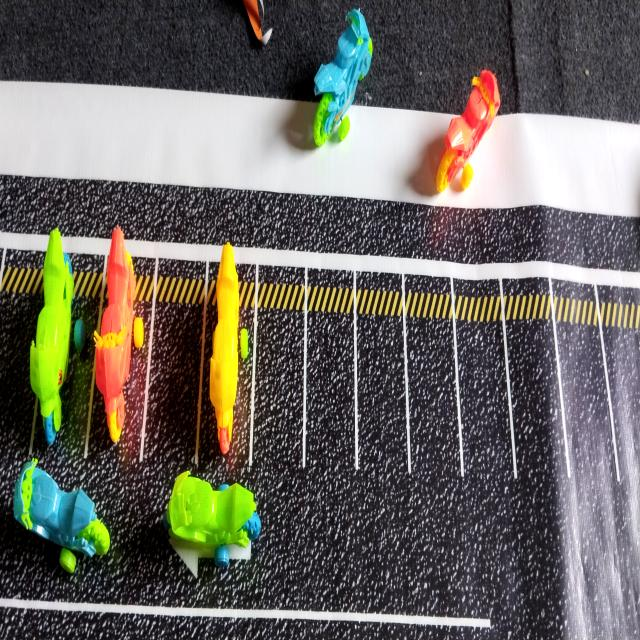bikes: (14, 458, 110, 573), (167, 471, 261, 566), (313, 10, 372, 147), (436, 70, 500, 192)
occupied: (29, 228, 98, 456), (88, 227, 154, 465), (198, 242, 251, 471)
others: (243, 0, 272, 45), (259, 0, 264, 13)
slots: (557, 308, 617, 531), (507, 319, 567, 494), (143, 300, 203, 465), (406, 310, 460, 489), (456, 320, 513, 482), (357, 303, 407, 479), (251, 310, 304, 475), (305, 302, 355, 470), (0, 293, 41, 462), (603, 328, 640, 504)
